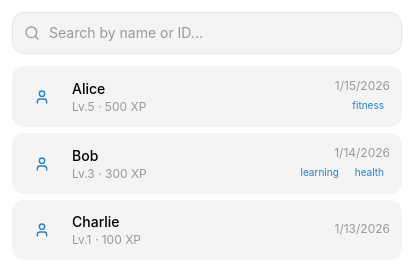
Test: AdminUserList › shows "No users found" when search has no results
This screenshot has width=414, height=277.
Expected: the text "Alice" is shown, [72,80,105,96]
Type "NonExistent" into the field with placeholder "Search by name or ID..." at (207,33), box [12,12,402,54]
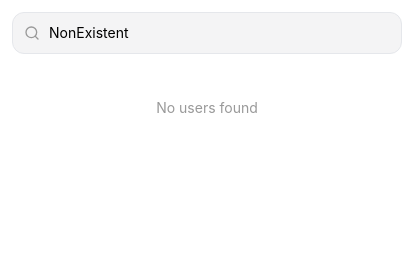
Now the text "No users found" is shown, box [156,99,258,116]
